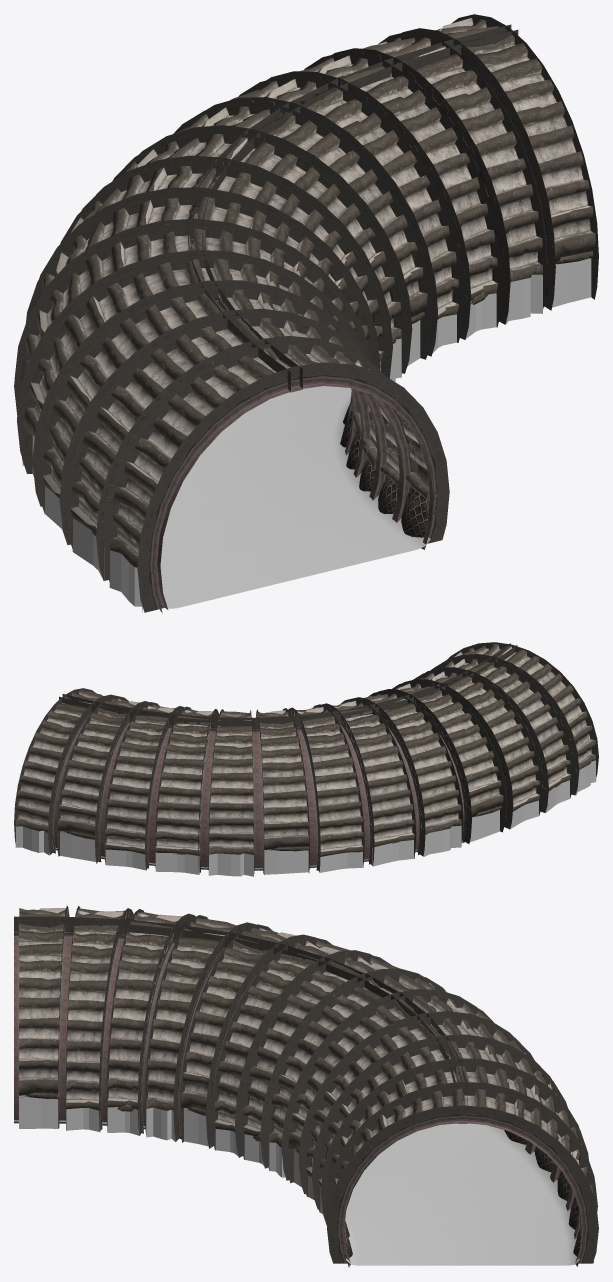
The model's file is tunnel_tile_2.dae.
3 views of the same model, one above another, from view 1: azimuth 30°, elevation 25°; view 2: azimuth 150°, elevation 25°; view 3: azimuth 270°, elevation 25° (orthographic). The views are drawn at different scales.
Parts seen in each view (by area): view 1: Walls, Ground, Chainlink, Wood; view 2: Walls, Wood; view 3: Walls, Ground, Chainlink, Wood.
Boxes of the visible parts, x1=… form: Walls: x1=14, y1=14, x2=598, y2=612; Ground: x1=160, y1=386, x2=430, y2=608; Chainlink: x1=159, y1=258, x2=591, y2=612; Wood: x1=34, y1=251, x2=593, y2=573; Walls: x1=14, y1=642, x2=598, y2=876; Wood: x1=52, y1=783, x2=560, y2=854; Walls: x1=14, y1=906, x2=598, y2=1264; Ground: x1=14, y1=1120, x2=579, y2=1265; Chainlink: x1=19, y1=1096, x2=587, y2=1267; Wood: x1=24, y1=1092, x2=581, y2=1234.
Bounding box in the file's own units: 13.03 × 13.03 × 3.99.
